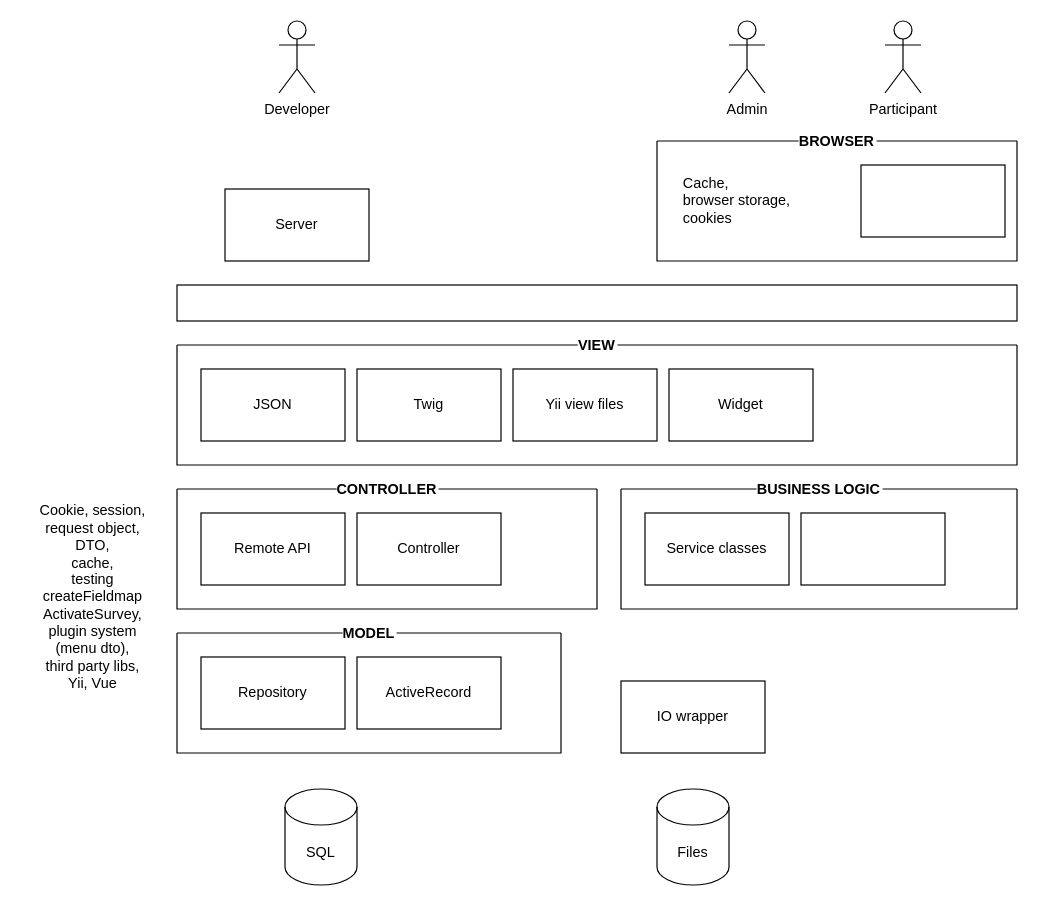
The diagram is 1038 pixels wide and 906 high, and some of its shapes have lost their labels. Here are the shapes that lost their labels. From the top down, the centre of each, then its label:
At [932,200]: "JavaScript".
At [596,302]: "Http Request".
At [872,548]: "Helper functions".
